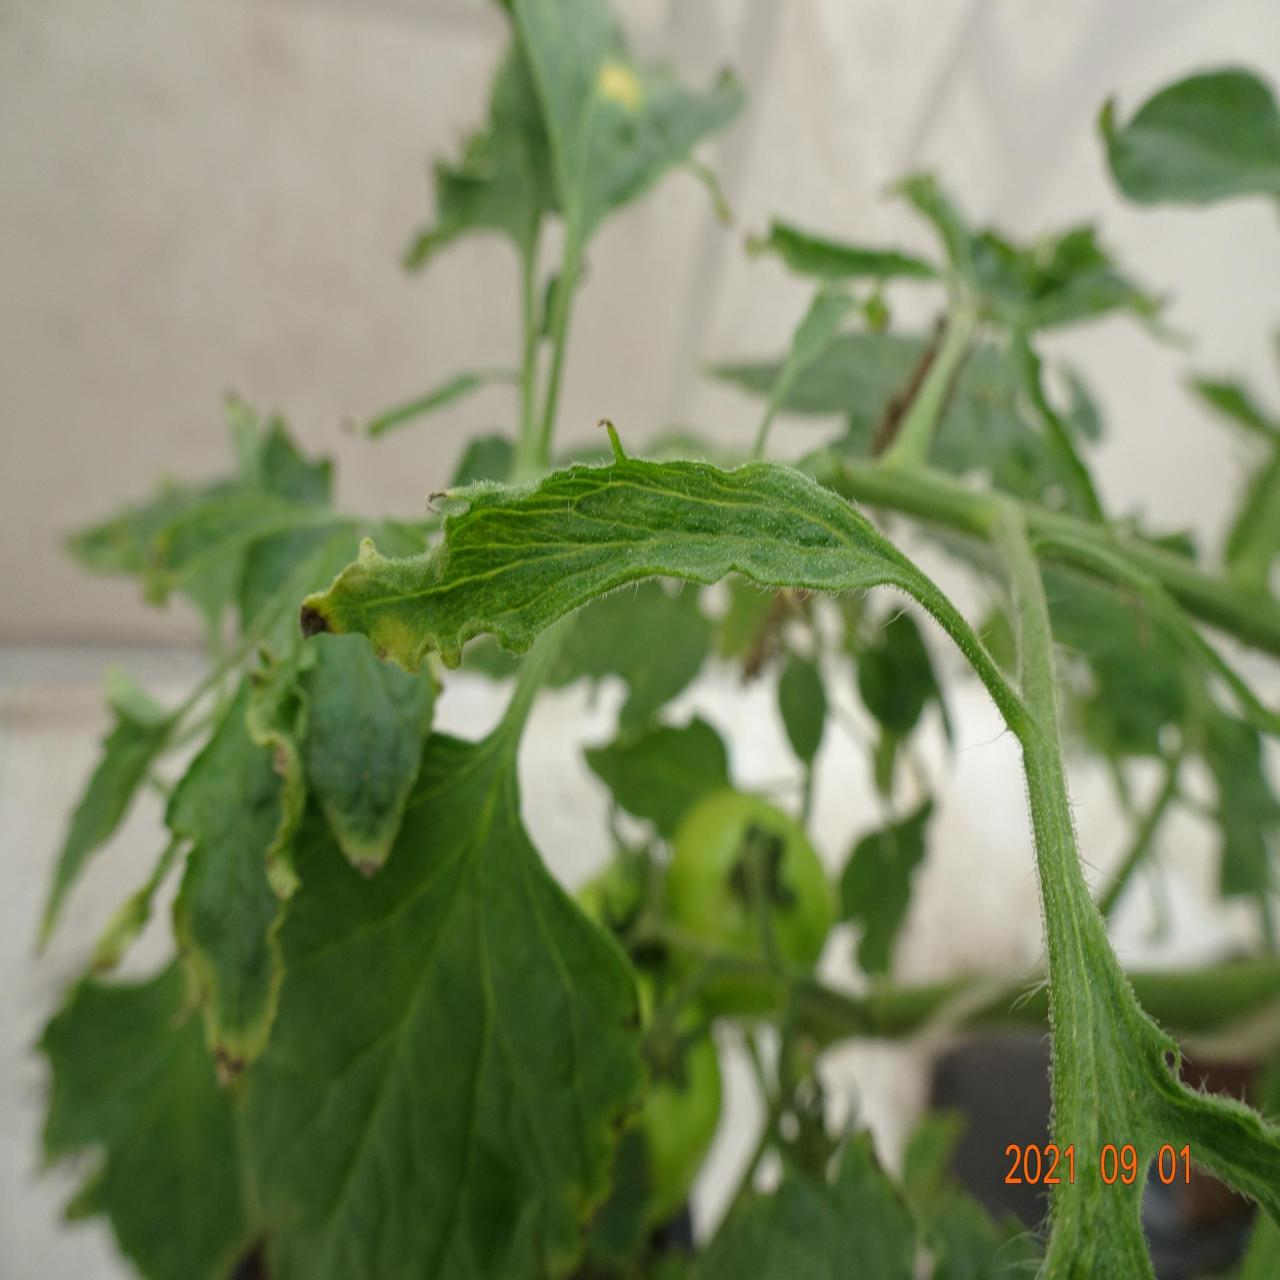T_L_R: (302, 457, 968, 674)
T_S_R: (996, 508, 1182, 1278)
